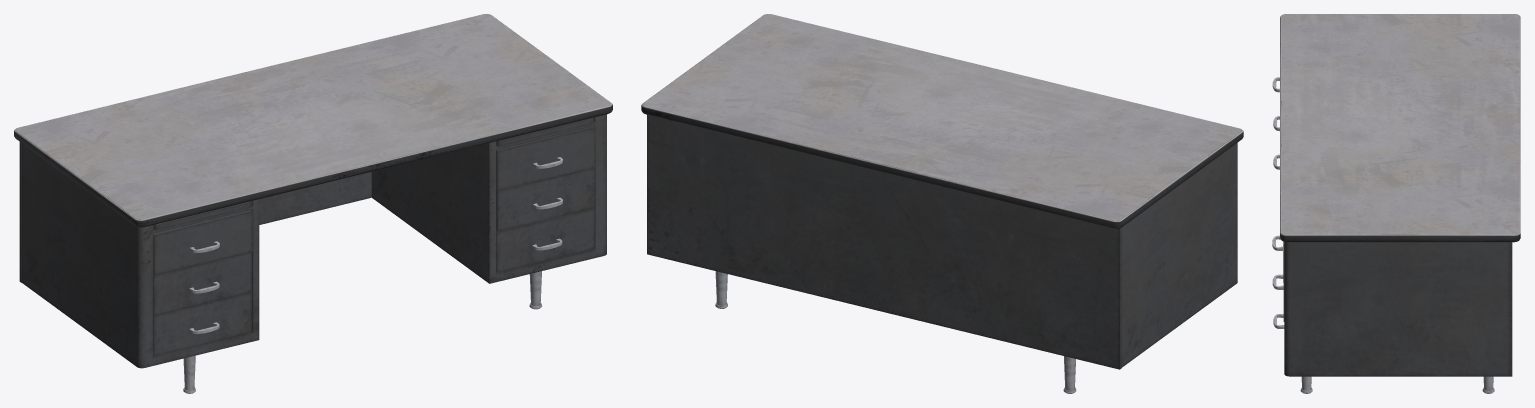
File: metal_office_desk.glb
3 renders of one model, left to right at view 1: azimuth 30°, elevation 25°; view 2: azimuth 150°, elevation 25°; view 3: azimuth 270°, elevation 25°, orthographic. The views are drawn at different scales.
Visible parts, largest first — view 1: metal_office_desk; view 2: metal_office_desk; view 3: metal_office_desk.
Part boxes in pixels (bbox=[...]): metal_office_desk: bbox=[14, 14, 612, 393]; metal_office_desk: bbox=[641, 14, 1243, 393]; metal_office_desk: bbox=[1272, 14, 1520, 393].
Size of the model in its own units: 2 by 0.7875 by 0.9472.
1 material, 1 textured.
